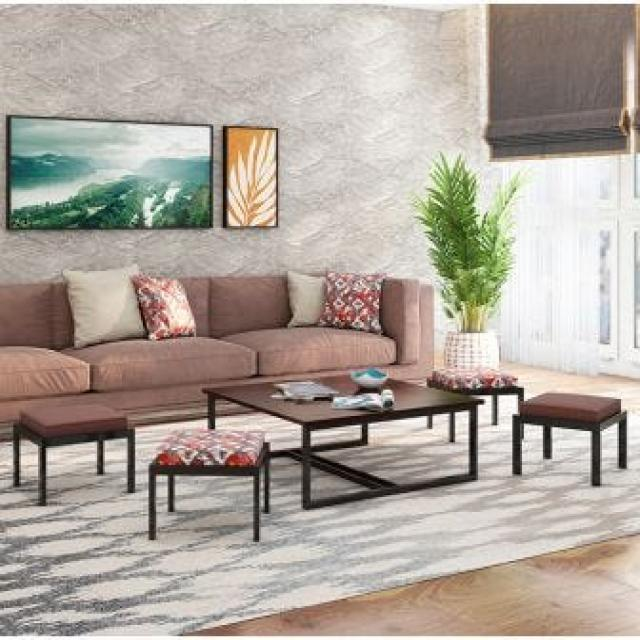obstacle: (136, 405, 281, 551), (7, 376, 152, 504), (508, 374, 637, 513)
